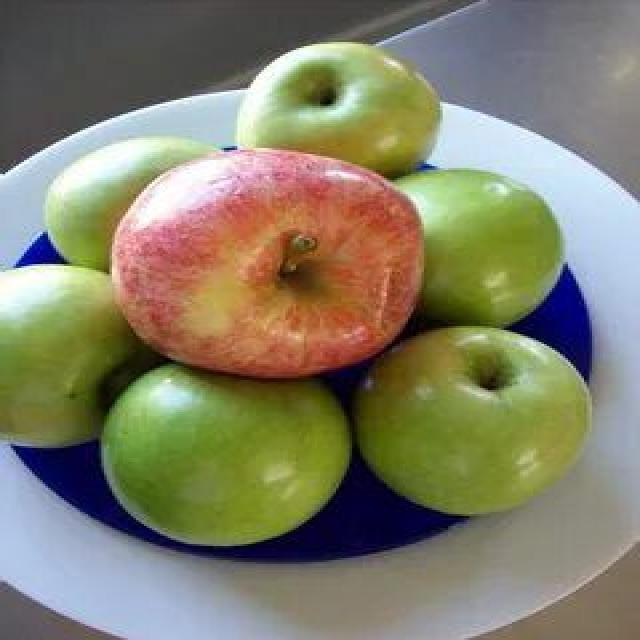Fresh Apple: (112, 152, 438, 376), (112, 364, 358, 538), (372, 332, 586, 522)
